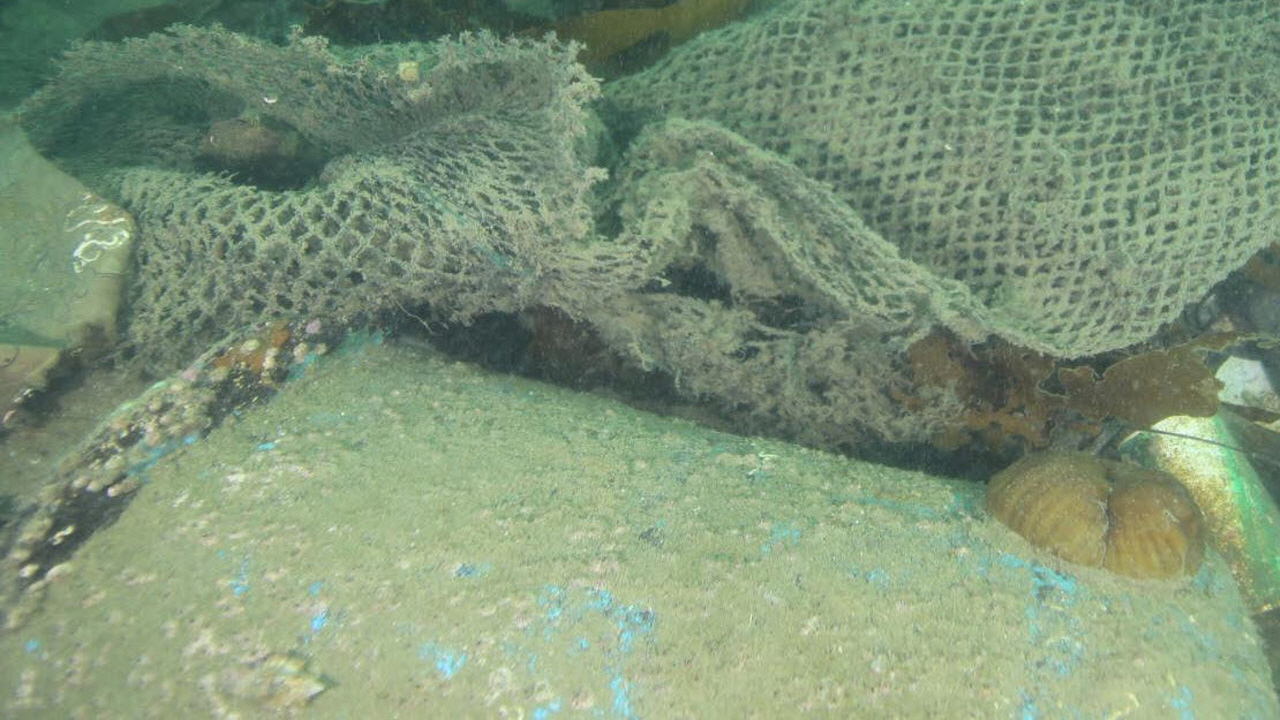fish net: (31, 0, 1280, 439)
